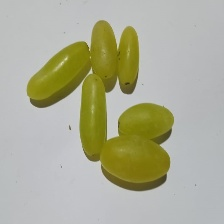grapes: (57, 35, 196, 170)
